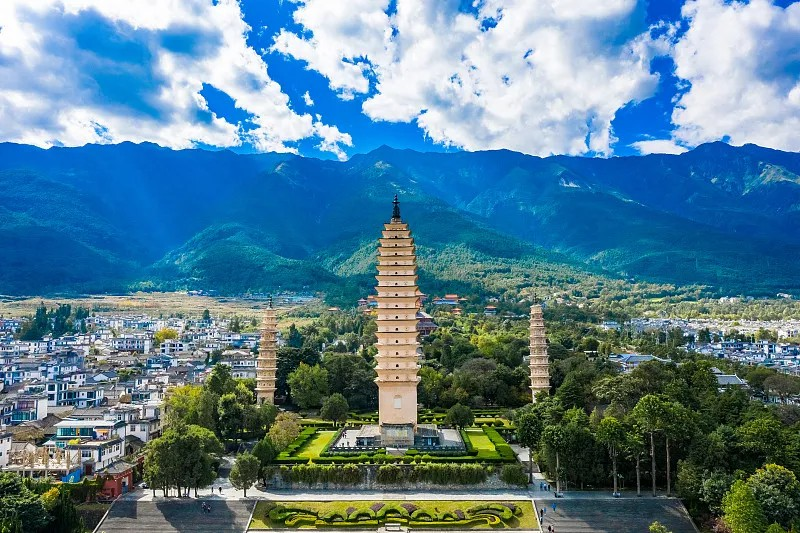ThreePagoda: (373, 194, 421, 430)
